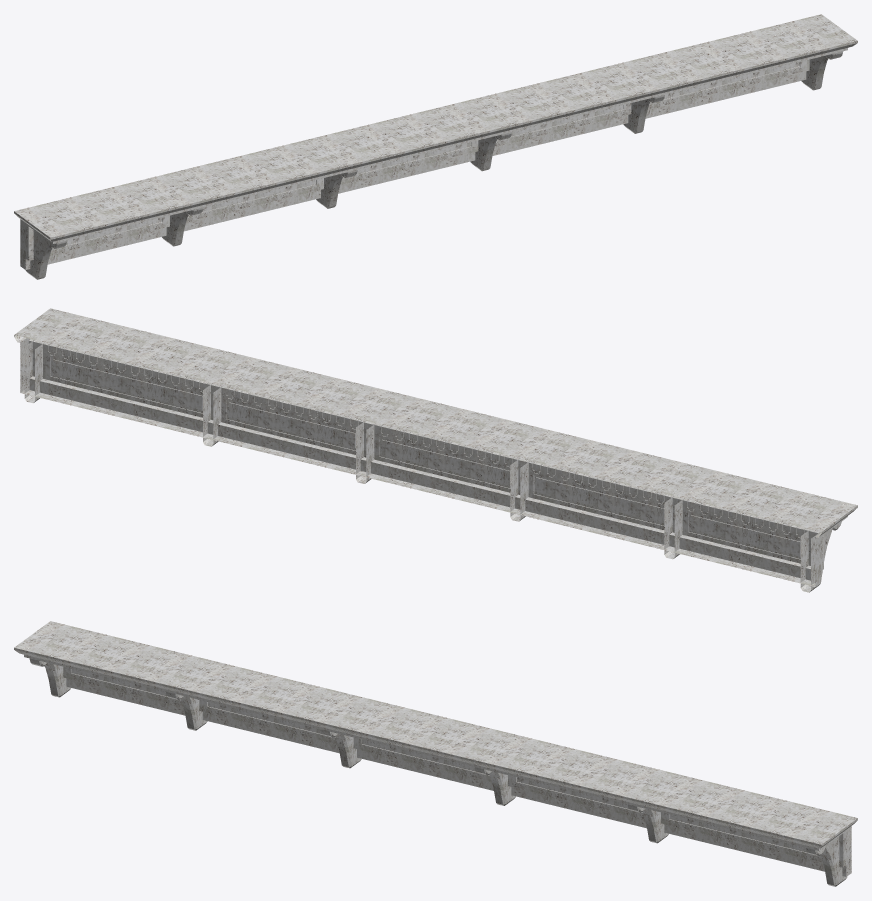
Rendered from BUILDING_topFloor_ornaments_01.FBX.
3 renders of one model, top to bottom at view 1: azimuth 30°, elevation 25°; view 2: azimuth 150°, elevation 25°; view 3: azimuth 330°, elevation 25°, orthographic.
Parts seen in each view (by area): view 1: BUILDING_topFloor_ornaments_01; view 2: BUILDING_topFloor_ornaments_01; view 3: BUILDING_topFloor_ornaments_01.
Part boxes in pixels (<box>): BUILDING_topFloor_ornaments_01: <box>14,14,857,279</box>; BUILDING_topFloor_ornaments_01: <box>14,308,857,592</box>; BUILDING_topFloor_ornaments_01: <box>14,621,857,886</box>.
Bounding box in the file's own units: 1900 × 144 × 149.
1 material, 1 textured.
